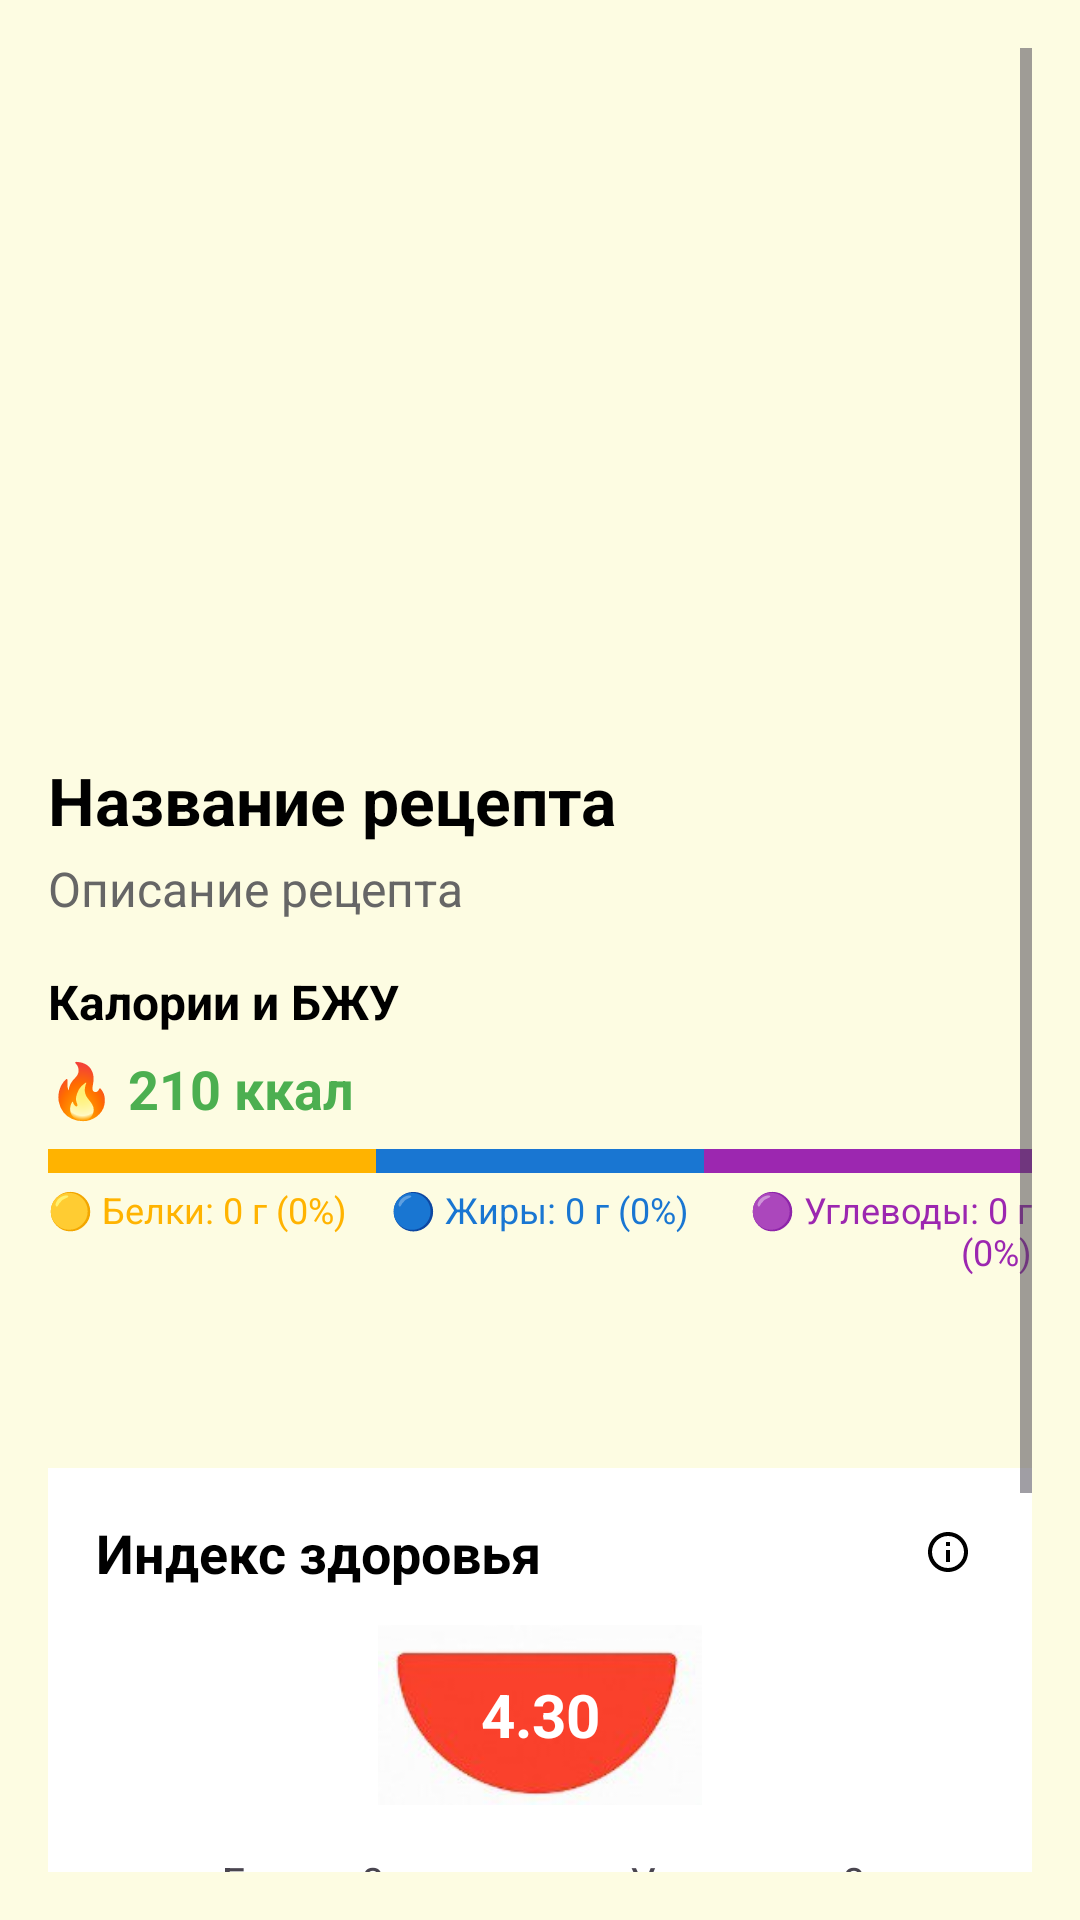

Screen size 1080 × 1920. Icon name, then its box in pixels as BBox(x1, y1, x2, y2):
Инфо: BBox(928, 1532, 968, 1572)
